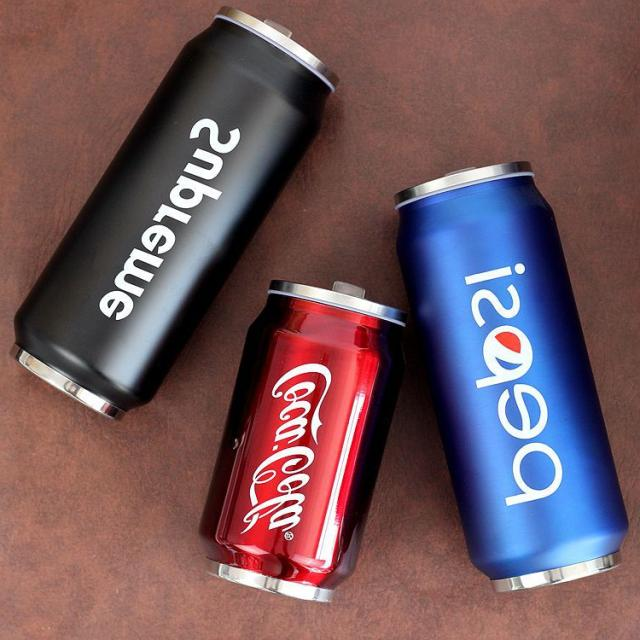metal: (12, 8, 338, 417), (395, 161, 628, 591), (200, 280, 406, 602)
